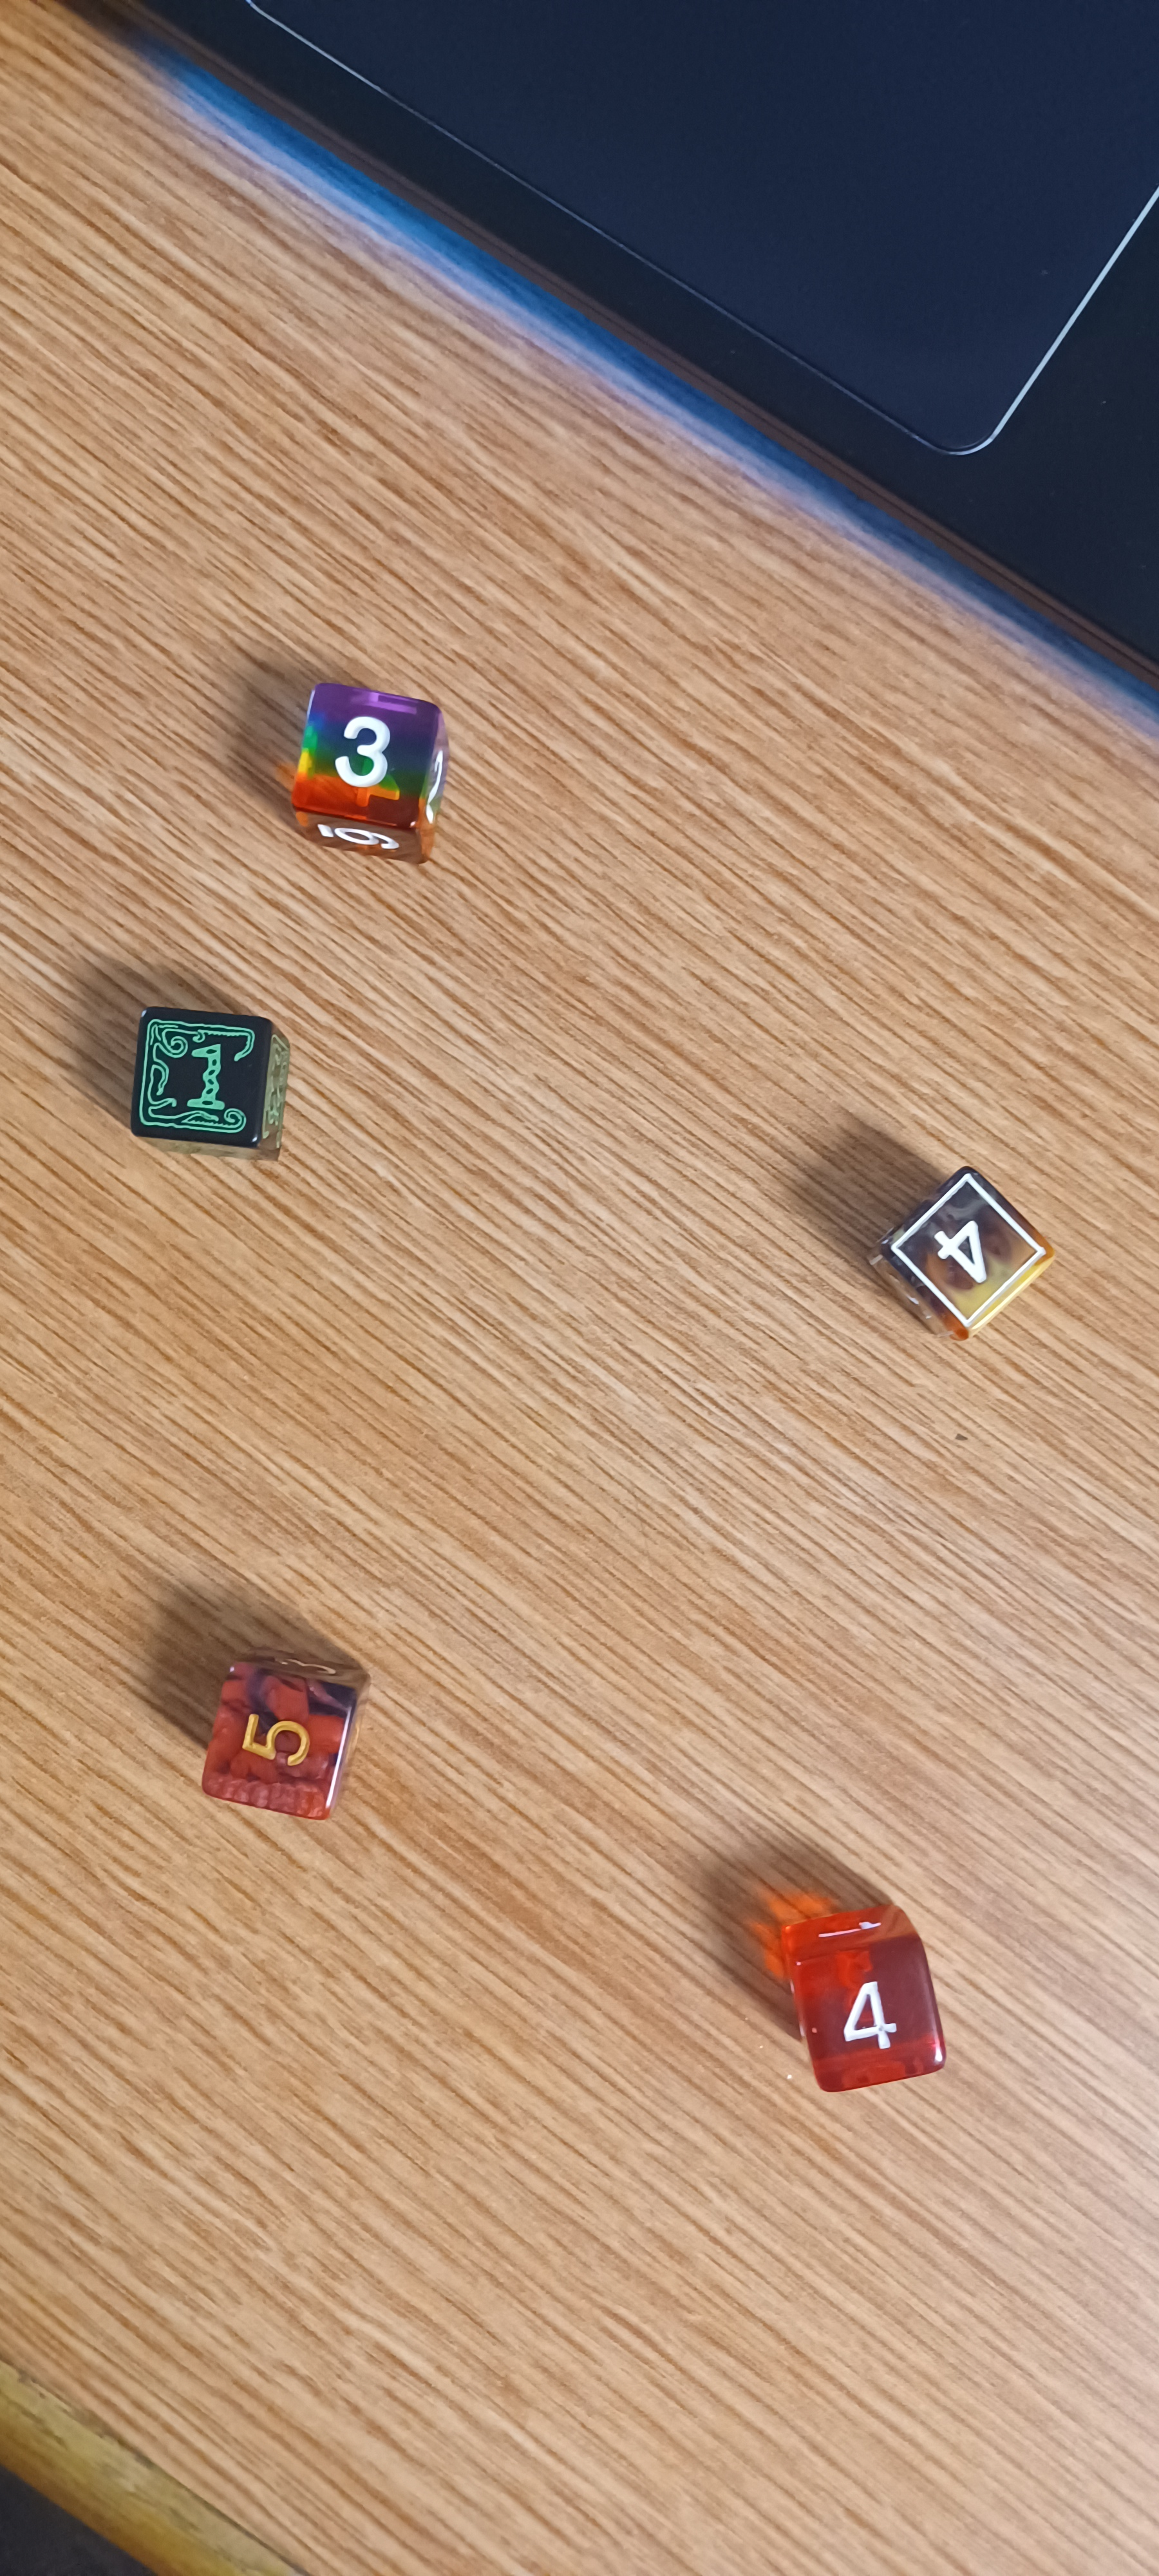five: (149, 1621, 412, 1858)
four: (732, 1856, 988, 2132), (847, 1138, 1090, 1365)
one: (90, 959, 337, 1198)
three: (256, 660, 499, 884)
